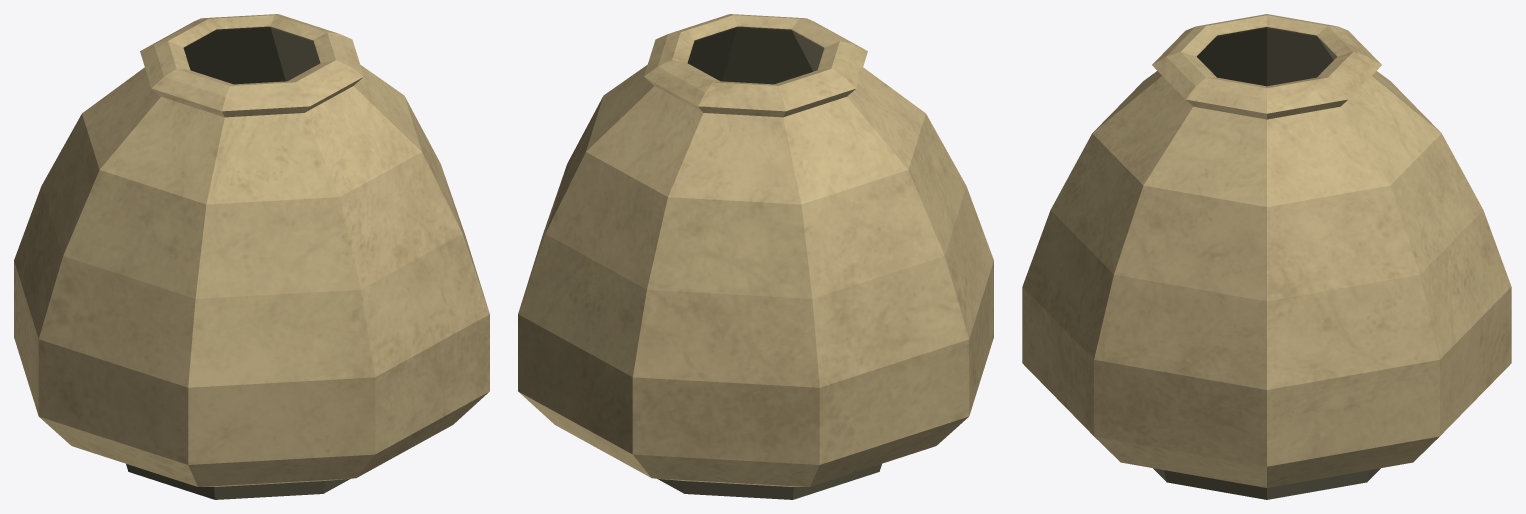
Rendered from Test_Break_Vase.FBX.
3 views of the same model, side by side, from view 1: azimuth 30°, elevation 25°; view 2: azimuth 150°, elevation 25°; view 3: azimuth 270°, elevation 25° (orthographic).
Visible parts, largest first — view 1: vase002_Part_10, vase002_Part_3, vase002_Part_9, vase002_Part_2, vase002_Part_5, vase002_Part_4, vase002_Part_6, vase002_Part_8, vase002_Part_1; view 2: vase002_Part_9, vase002_Part_5, vase002_Part_8, vase002_Part_6, vase002_Part_4, vase002_Part_7, vase002_Part_2, vase002_Part_10, vase002_Part_3, vase002_Part_1; view 3: vase002_Part_2, vase002_Part_1, vase002_Part_8, vase002_Part_10, vase002_Part_9, vase002_Part_6, vase002_Part_3, vase002_Part_7.
Boxes of the visible parts, box(x1,y1,x2,y2) form: vase002_Part_10: box(108, 72, 471, 373); vase002_Part_3: box(58, 317, 476, 499); vase002_Part_9: box(61, 14, 310, 322); vase002_Part_2: box(269, 14, 489, 361); vase002_Part_5: box(14, 126, 99, 408); vase002_Part_4: box(14, 266, 87, 451); vase002_Part_6: box(189, 43, 271, 83); vase002_Part_8: box(231, 53, 290, 84); vase002_Part_1: box(445, 200, 489, 428); vase002_Part_9: box(661, 18, 967, 278); vase002_Part_5: box(722, 218, 976, 397); vase002_Part_8: box(526, 95, 688, 410); vase002_Part_6: box(644, 71, 789, 376); vase002_Part_4: box(655, 366, 972, 486); vase002_Part_7: box(545, 396, 881, 499); vase002_Part_2: box(556, 14, 769, 202); vase002_Part_10: box(756, 16, 981, 267); vase002_Part_3: box(966, 226, 993, 404); vase002_Part_1: box(518, 192, 563, 429); vase002_Part_2: box(1080, 63, 1377, 390); vase002_Part_1: box(1083, 267, 1458, 499); vase002_Part_8: box(1348, 111, 1511, 404); vase002_Part_10: box(1023, 45, 1193, 380); vase002_Part_9: box(1172, 14, 1398, 89); vase002_Part_6: box(1343, 65, 1472, 190); vase002_Part_3: box(1022, 283, 1165, 480); vase002_Part_7: box(1341, 320, 1511, 486).
Bounding box in the file's own units: 26.88 × 23.54 × 26.88.
